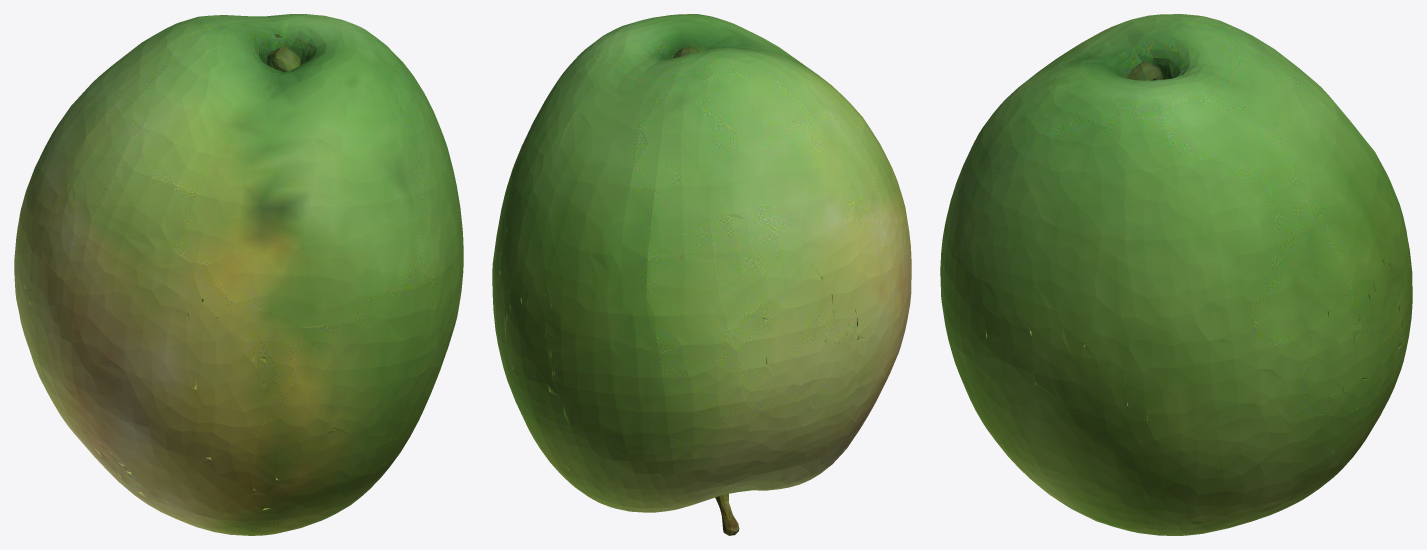
File: yellow_and_green_pear_on_the_far_right_000.glb
The picture shows the model from 3 angles, left to right: view 1: azimuth 30°, elevation 25°; view 2: azimuth 150°, elevation 25°; view 3: azimuth 270°, elevation 25°; orthographic projection. The views are drawn at different scales.
Visible parts, largest first — view 1: phase2_final_yellow_and_green_pear_on_the_far_right_000.obj; view 2: phase2_final_yellow_and_green_pear_on_the_far_right_000.obj; view 3: phase2_final_yellow_and_green_pear_on_the_far_right_000.obj.
Boxes of the visible parts, x1=… form: phase2_final_yellow_and_green_pear_on_the_far_right_000.obj: x1=14, y1=14, x2=463, y2=535; phase2_final_yellow_and_green_pear_on_the_far_right_000.obj: x1=492, y1=14, x2=911, y2=535; phase2_final_yellow_and_green_pear_on_the_far_right_000.obj: x1=940, y1=14, x2=1412, y2=535.
Size of the model in its own units: 0.1798 by 0.2132 by 0.1928.
1 material, 1 textured.
